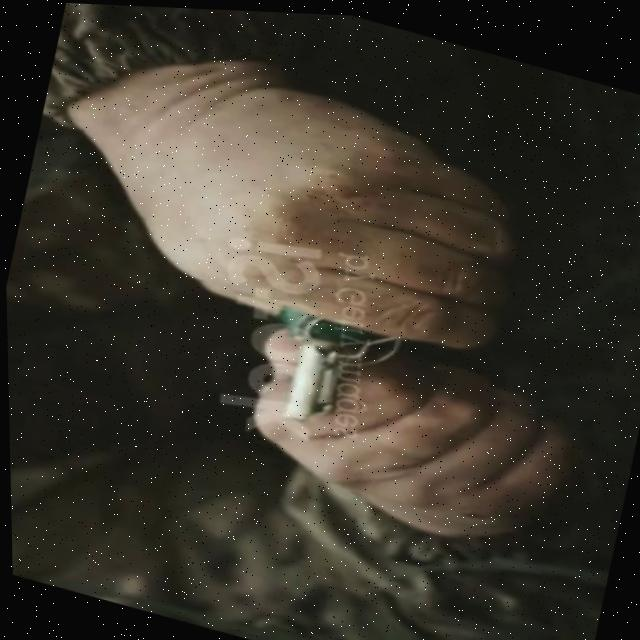grenade: (223, 278, 406, 446)
